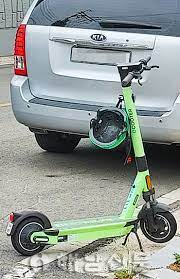kick_board: (8, 56, 177, 254)
kick_body: (57, 218, 131, 236)
kick_handler: (118, 57, 160, 84)
kick_neck: (123, 91, 153, 192)
kick_wheel: (7, 210, 51, 255), (140, 205, 177, 243)
